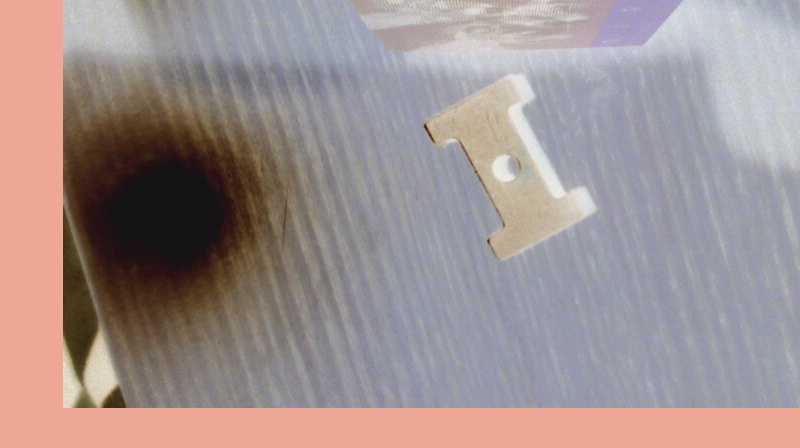O002: (420, 72, 593, 262)
